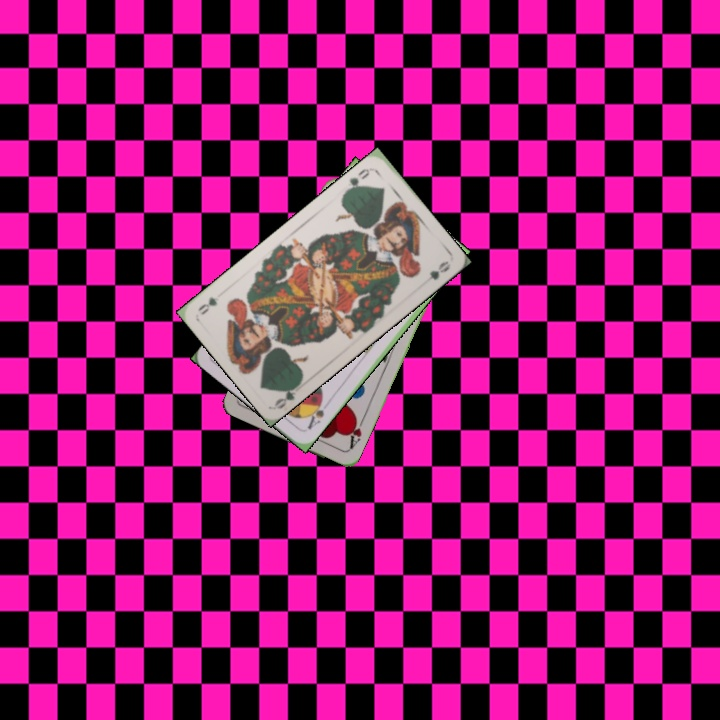GO: (271, 376, 304, 411), (342, 164, 375, 195)
HA: (344, 412, 367, 453)
SA: (303, 395, 327, 433)
